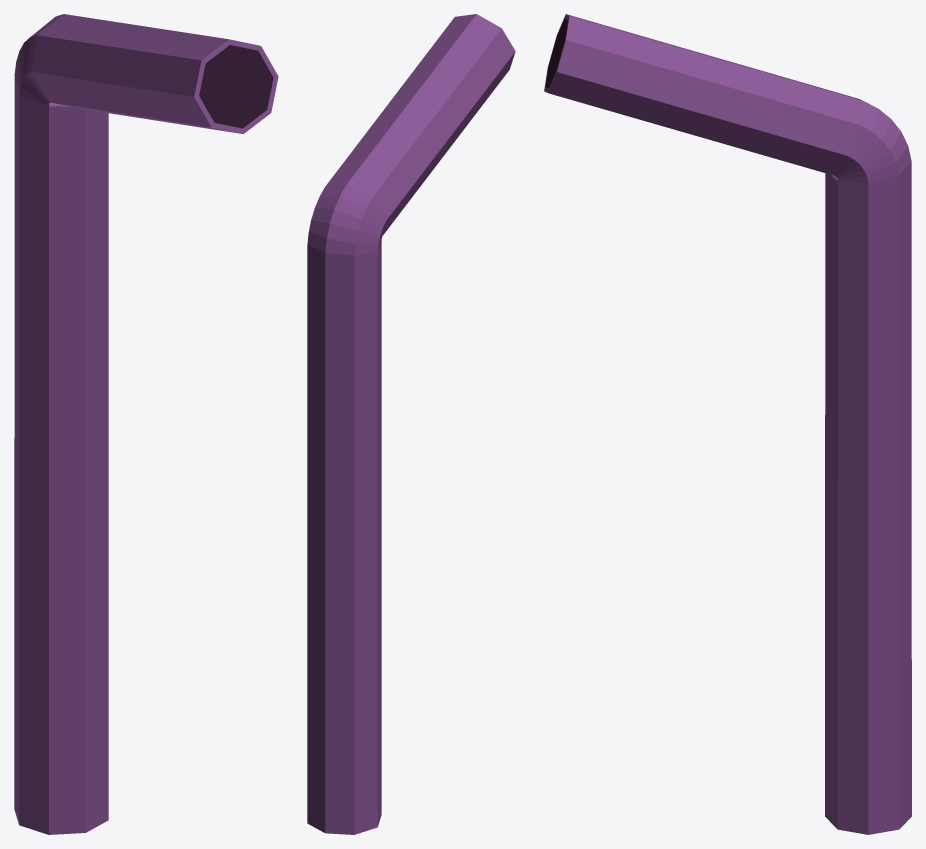
Rendered from straw_purple.fbx.
3 renders of one model, left to right at view 1: azimuth 30°, elevation 25°; view 2: azimuth 150°, elevation 25°; view 3: azimuth 270°, elevation 25°, orthographic. The views are drawn at different scales.
Visible parts, largest first — view 1: Cylinder.001; view 2: Cylinder.001; view 3: Cylinder.001.
Boxes of the visible parts, x1,y1,x2,y2 form: Cylinder.001: (14,14,278,834); Cylinder.001: (307,14,515,834); Cylinder.001: (544,14,911,834).
Bounding box in the file's own units: 126 × 1285 × 535.
